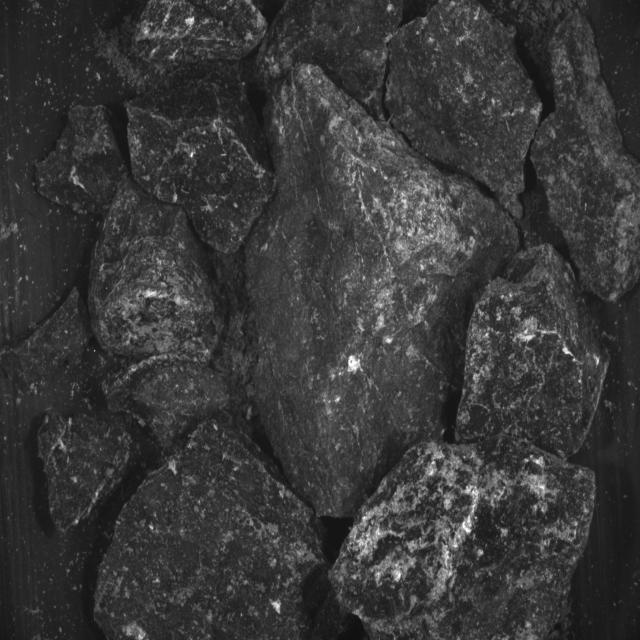Stones: (247, 66, 520, 518), (331, 436, 596, 640), (95, 415, 329, 640), (386, 1, 542, 218), (457, 245, 610, 458), (532, 12, 640, 302), (127, 63, 275, 254), (90, 180, 219, 363), (259, 1, 404, 120), (547, 154, 640, 302), (104, 355, 230, 449), (39, 414, 134, 534), (37, 107, 127, 215), (1, 289, 91, 395), (135, 1, 269, 67)
